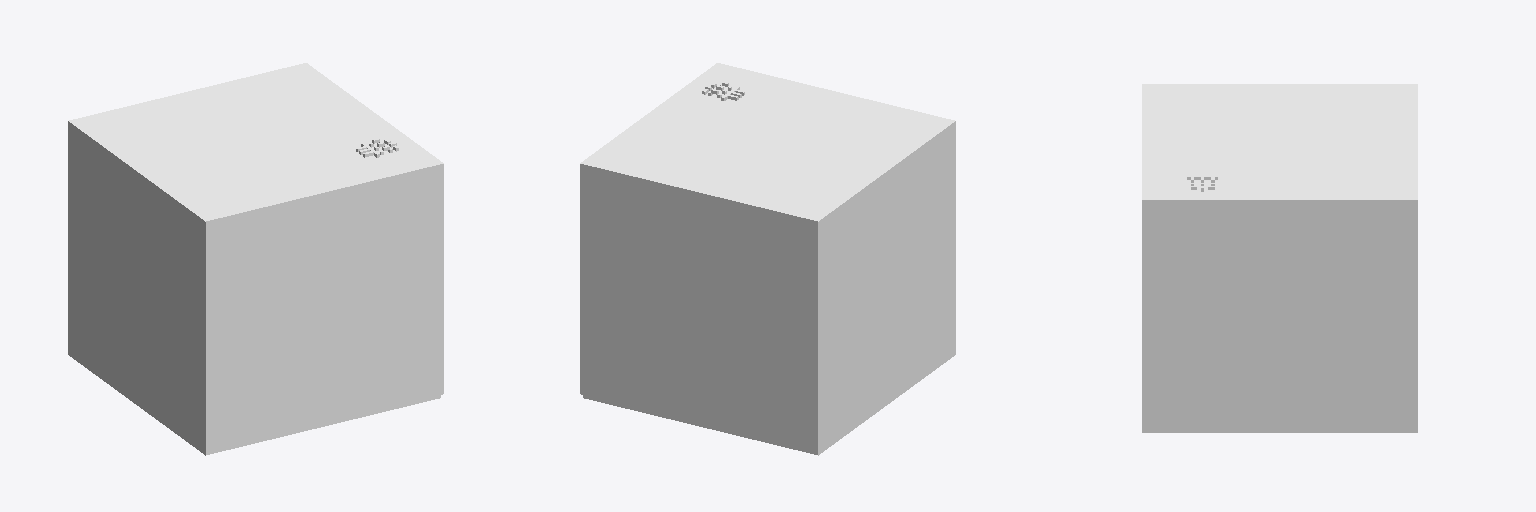
File: FirstStage.obj
3 views of the same model, side by side, from view 1: azimuth 30°, elevation 25°; view 2: azimuth 150°, elevation 25°; view 3: azimuth 270°, elevation 25° (orthographic).
Visible parts, largest first — view 1: object 1; view 2: object 1; view 3: object 1.
Part boxes in pixels (x1,y1,x2,y2): object 1: (68, 63, 443, 455); object 1: (580, 63, 955, 455); object 1: (1142, 84, 1417, 432).
Bounding box in the file's own units: 8 × 7.7 × 8.